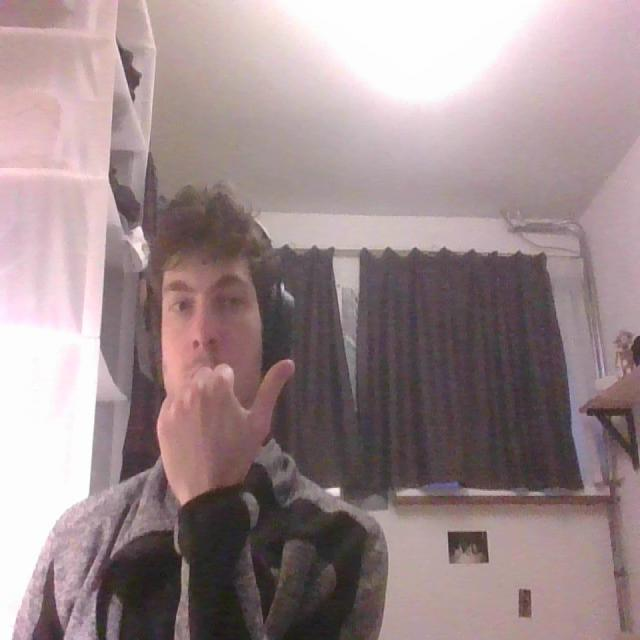right: (148, 356, 298, 498)
